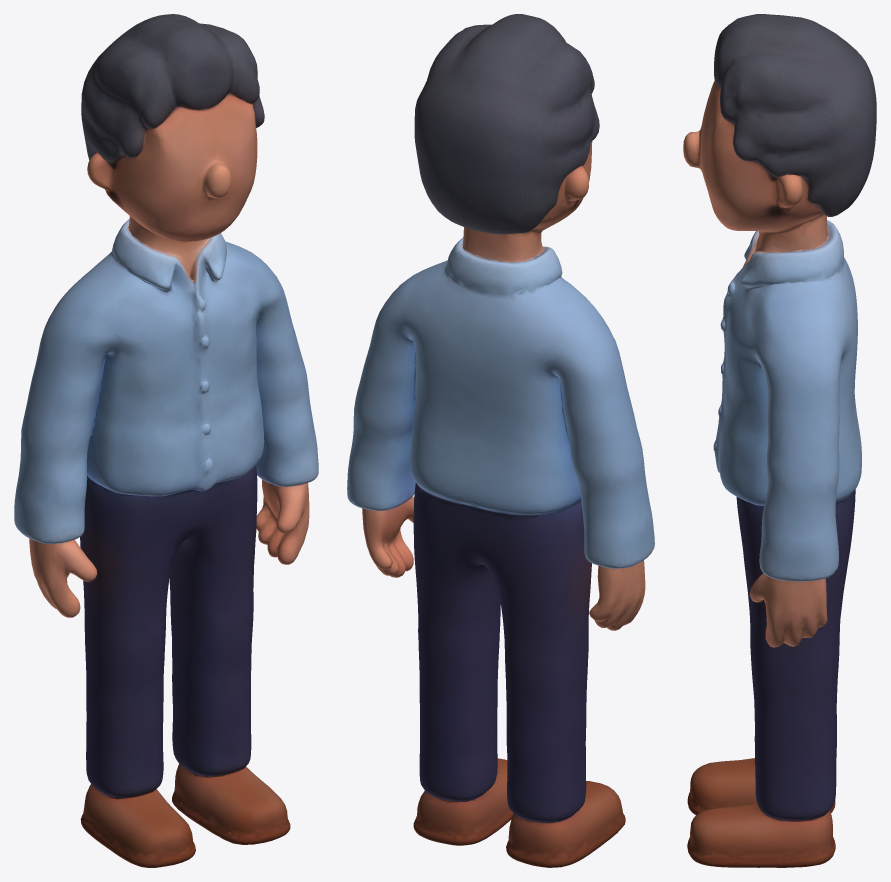
The model's file is dad.glb.
3 views of the same model, side by side, from view 1: azimuth 30°, elevation 25°; view 2: azimuth 150°, elevation 25°; view 3: azimuth 270°, elevation 25° (orthographic).
Parts seen in each view (by area): view 1: Mesh; view 2: Mesh; view 3: Mesh.
Boxes of the visible parts, x1=… form: Mesh: x1=14, y1=14, x2=318, y2=867; Mesh: x1=347, y1=14, x2=654, y2=867; Mesh: x1=683, y1=14, x2=876, y2=867.
Size of the model in its own units: 0.72 by 1.91 by 0.4124.
1 material, 1 textured.
